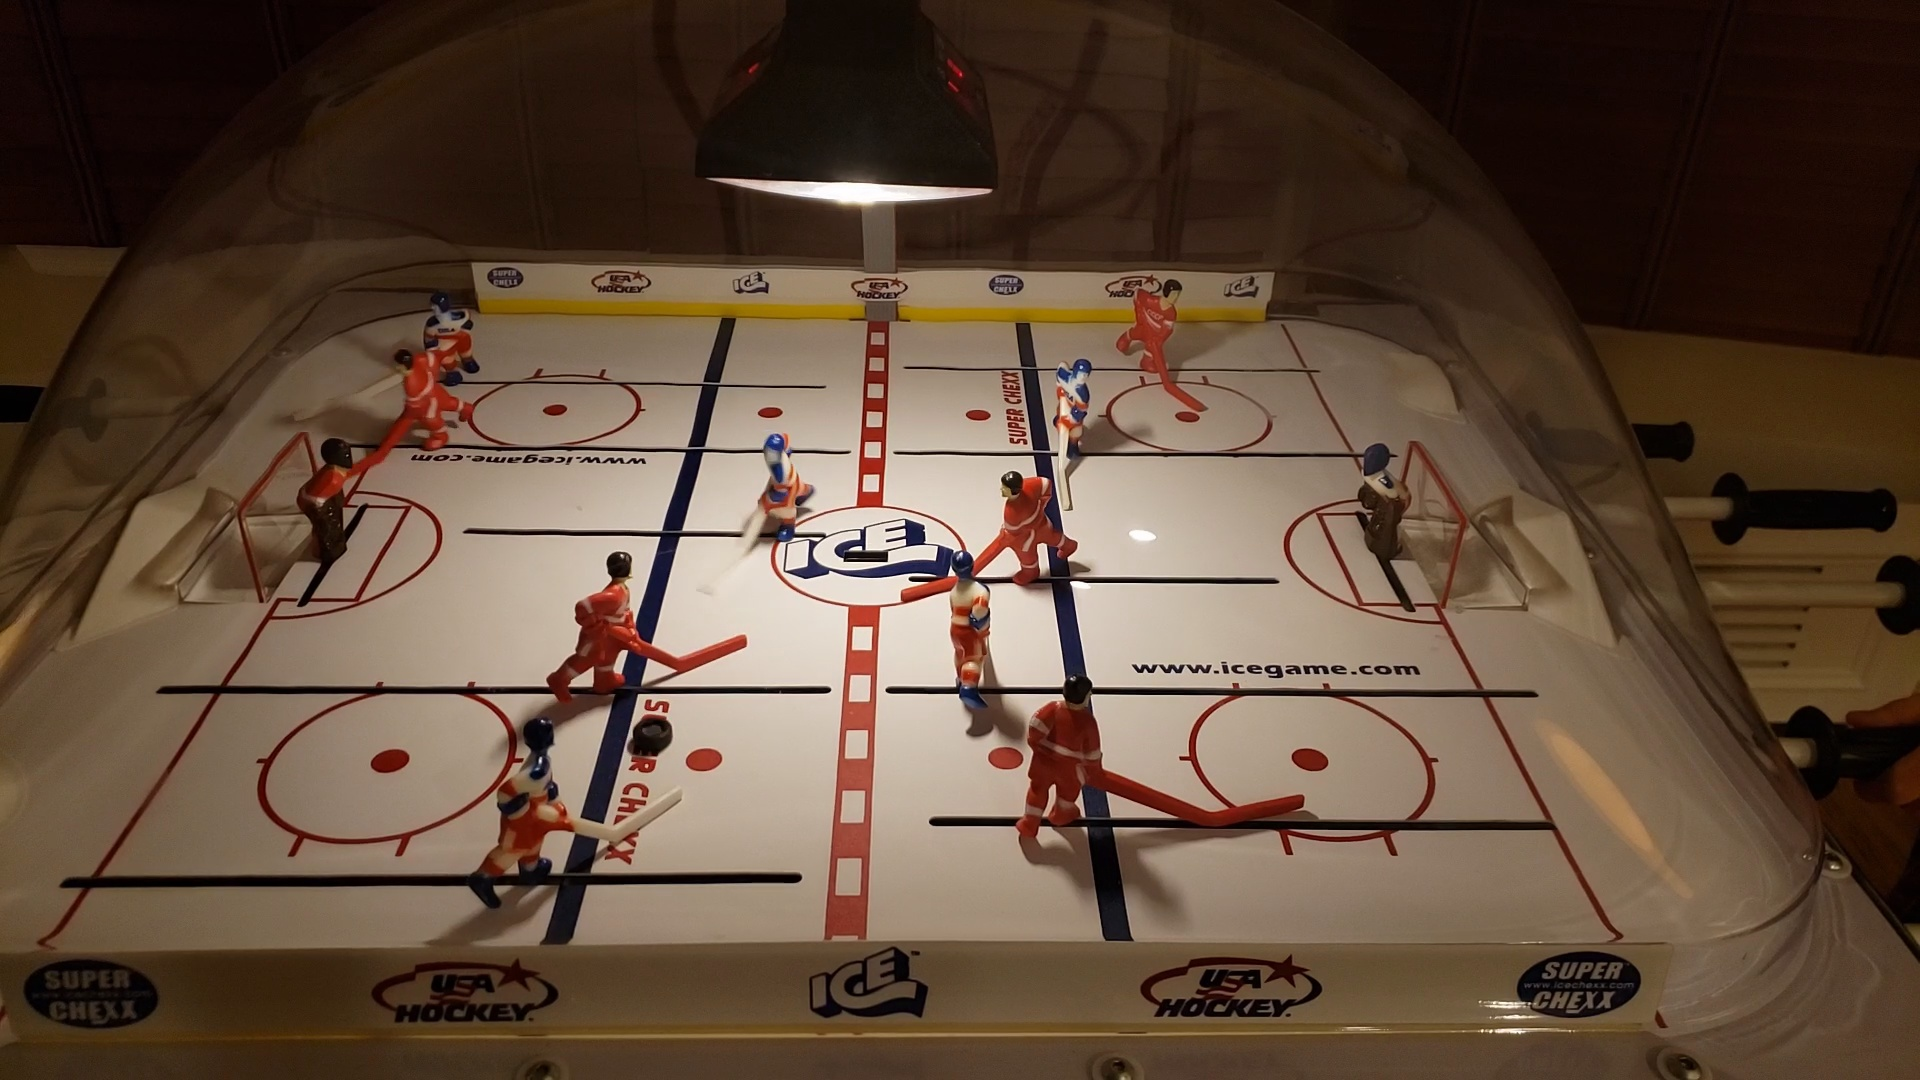puck: (632, 715, 676, 752)
